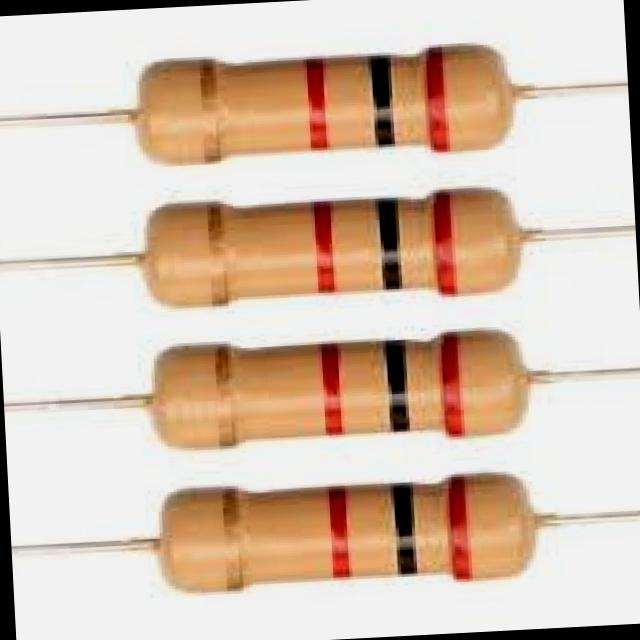Resistor: (131, 45, 531, 163), (146, 330, 528, 448), (146, 188, 523, 303), (161, 475, 536, 590)
black: (380, 332, 410, 441), (376, 194, 405, 294), (392, 482, 419, 576)
gold: (211, 347, 235, 459), (219, 487, 242, 593), (204, 202, 227, 306), (200, 62, 220, 167)
red: (312, 336, 345, 446), (426, 185, 457, 299), (438, 328, 466, 442), (448, 474, 472, 584), (310, 196, 336, 296), (330, 482, 351, 578)
